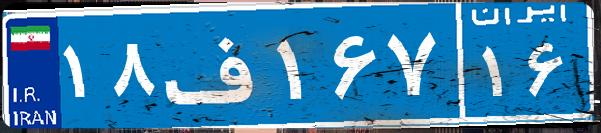1: (273, 28, 330, 110), (57, 26, 110, 107), (475, 38, 525, 113)
6: (330, 28, 385, 110), (525, 38, 570, 115)
7: (385, 28, 445, 110)
8: (110, 28, 158, 105)
ف: (158, 15, 273, 115)
